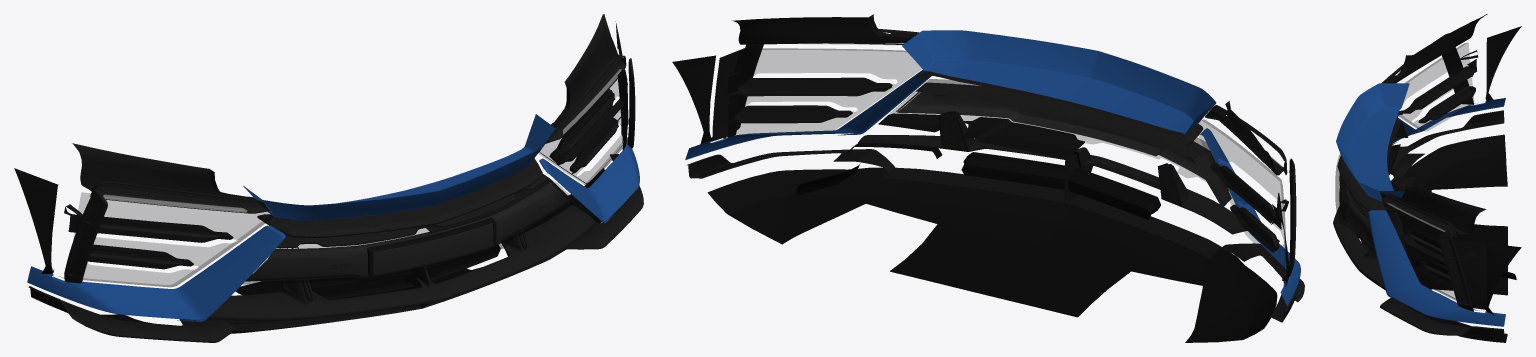
Rendered from bumper_f.glb.
3 renders of one model, left to right at view 1: azimuth 30°, elevation 25°; view 2: azimuth 150°, elevation 25°; view 3: azimuth 270°, elevation 25°, orthographic. The views are drawn at different scales.
Visible parts, largest first — view 1: Carbon1_Geo_lodA_Lamborghini_IVRewardRecycled_2024Carbon1_m2; view 2: Carbon1_Geo_lodA_Lamborghini_IVRewardRecycled_2024Carbon1_m2; view 3: Carbon1_Geo_lodA_Lamborghini_IVRewardRecycled_2024Carbon1_m2.
Boxes of the visible parts, x1=… form: Carbon1_Geo_lodA_Lamborghini_IVRewardRecycled_2024Carbon1_m2: x1=14, y1=14, x2=643, y2=342; Carbon1_Geo_lodA_Lamborghini_IVRewardRecycled_2024Carbon1_m2: x1=672, y1=14, x2=1304, y2=342; Carbon1_Geo_lodA_Lamborghini_IVRewardRecycled_2024Carbon1_m2: x1=1333, y1=14, x2=1521, y2=342.
Size of the model in its own units: 0.0199 by 0.00626 by 0.00718.
7 materials, 3 textured.
